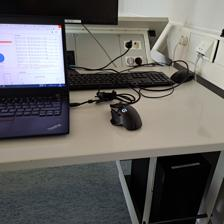mouse: (108, 103, 142, 131)
